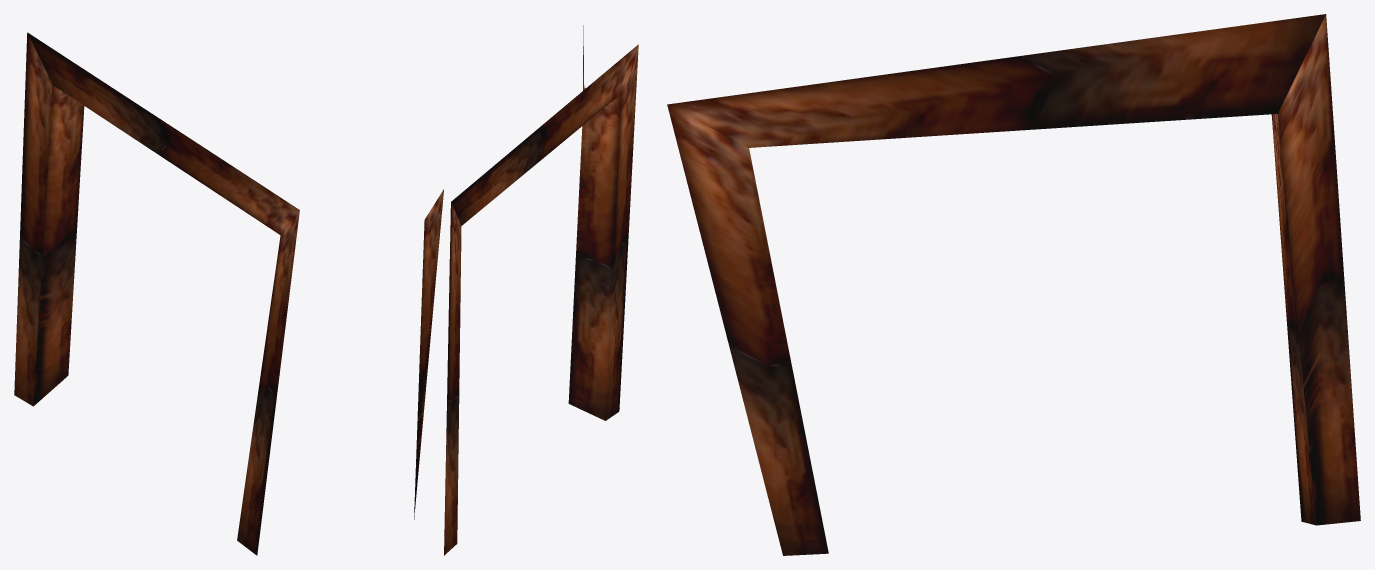
3 views of the same model, side by side, from view 1: azimuth 30°, elevation 25°; view 2: azimuth 150°, elevation 25°; view 3: azimuth 270°, elevation 25° (orthographic). The views are drawn at different scales.
Visible parts, largest first — view 1: Box21; view 2: Box21; view 3: Box21.
Part boxes in pixels (bbox=[...]): Box21: bbox=[14, 32, 299, 555]; Box21: bbox=[414, 25, 638, 555]; Box21: bbox=[667, 14, 1360, 555].
Bounding box in the file's own units: 140 × 497 × 595.
Materials: 1 (1 with a texture image).
